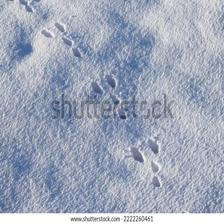rabbit: (125, 138, 174, 195), (90, 74, 132, 123), (40, 23, 86, 62)
